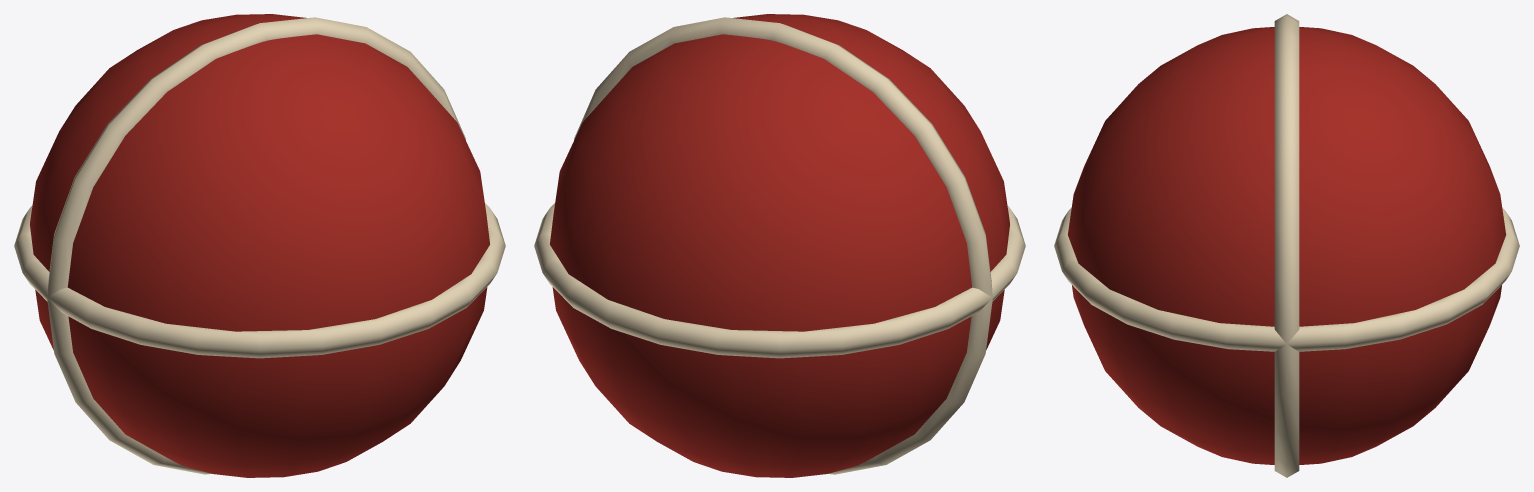
Rendered from wurfball.glb.
3 renders of one model, left to right at view 1: azimuth 30°, elevation 25°; view 2: azimuth 150°, elevation 25°; view 3: azimuth 270°, elevation 25°, orthographic. The views are drawn at different scales.
Visible parts, largest first — view 1: wurfball; view 2: wurfball; view 3: wurfball.
Part boxes in pixels (bbox=[...]): wurfball: bbox=[14, 14, 505, 477]; wurfball: bbox=[534, 14, 1025, 477]; wurfball: bbox=[1054, 14, 1519, 477].
Bounding box in the file's own units: 0.116 × 0.116 × 0.116.
